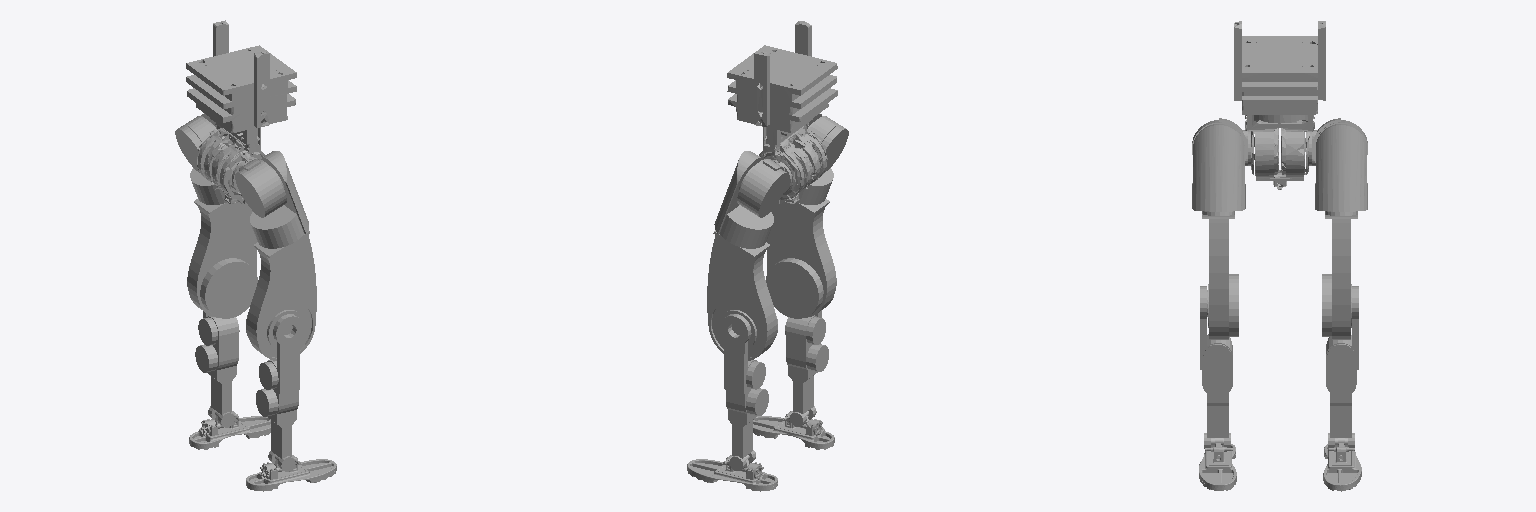
robot.urdf — R2:
<?xml version="1.0" encoding="utf-8"?>
<!-- 此模型用于仿真配重块版模型 -->
<robot name="R2">
  <mujoco>
    <compiler meshdir="meshes/" balanceinertia="true" discardvisual="false" />
  </mujoco>
  
  <!-- [CAUTION] uncomment when convert to mujoco -->
  <!-- <link name="world"></link>
  <joint name="floating_base_joint" type="floating">
    <parent link="world"/>
    <child link="base_link"/>
  </joint> -->

  <link name="base_link">
    <inertial>
      <origin xyz="0.00439618 5.853e-05 0.0065115" rpy="0 0 0" />
      <mass value="2.61" />
      <inertia ixx="0.00677361" ixy="2.89e-06" ixz="-0.00035304" iyy="0.00529171" iyz="-2.71e-06" izz="0.00502638" />
    </inertial>
    <visual>
      <origin xyz="0 0 0" rpy="0 0 0" />
      <geometry>
        <mesh filename="meshes/base_clump_weight_link.STL" />
      </geometry>
      <material name="">
        <color rgba="0.69804 0.69804 0.69804 1" />
      </material>
    </visual>
    <collision>
      <origin xyz="0 0 0" rpy="0 0 0" />
      <geometry>
        <mesh filename="meshes/base_clump_weight_link.STL" />
      </geometry>
    </collision>
  </link>
  <link name="clump_weight_link">
    <inertial>
      <origin xyz="-0.0006442 -7.046e-05 0.05178552" rpy="0 0 0" />
      <mass value="18.02929317" />
      <inertia ixx="0.05787748" ixy="-6.906e-05" ixz="-0.00072924" iyy="0.04960865" iyz="-1.088e-05" izz="0.06888179" />
    </inertial>
    <visual>
      <origin xyz="0 0 0" rpy="0 0 0" />
      <geometry>
        <mesh filename="meshes/clump_weight_link.STL" />
      </geometry>
      <material name="">
        <color rgba="0.69804 0.69804 0.69804 1" />
      </material>
    </visual>
    <collision>
      <origin xyz="0 0 0" rpy="0 0 0" />
      <geometry>
        <mesh filename="meshes/clump_weight_link.STL" />
      </geometry>
    </collision>
  </link>
  <joint name="clump_weight_joint" type="fixed">
    <origin xyz="0.0202500000012904 -0.00020855928995891 0.112124773455925" rpy="0 0 0" />
    <parent link="base_link" />
    <child link="clump_weight_link" />
  </joint>
  <link name="left_hip_pitch_link">
    <inertial>
      <origin xyz="-0.00028938 0.05520985 0.00013118" rpy="0 0 0" />
      <mass value="1.213" />
      <inertia ixx="0.00188482" ixy="1.784e-05" ixz="0.00022231" iyy="0.00118886" iyz="-1.011e-05" izz="0.00134031" />
    </inertial>
    <visual>
      <origin xyz="0 0 0" rpy="0 0 0" />
      <geometry>
        <mesh filename="meshes/left_hip_pitch_link.STL" />
      </geometry>
      <material name="">
        <color rgba="0.698039215686274 0.698039215686274 0.698039215686274 1" />
      </material>
    </visual>
    <collision>
      <origin xyz="0 0 0" rpy="0 0 0" />
      <geometry>
        <mesh filename="meshes/left_hip_pitch_link.STL" />
      </geometry>
    </collision>
  </link>
  <joint name="left_hip_pitch_joint" type="revolute">
    <origin xyz="0 0.0584500002241198 0" rpy="0 0 0" />
    <parent link="base_link" />
    <child link="left_hip_pitch_link" />
    <axis xyz="0 1 0" />
    <limit lower="-2.530727415" upper="2.879793266" effort="130" velocity="14.658" />
    <dynamics damping="0" friction="0" />
  </joint>
  <link name="left_hip_roll_link">
    <inertial>
      <origin xyz="-0.01609958 -1.412e-05 -0.07854252" rpy="0 0 0" />
      <mass value="1.41" />
      <inertia ixx="0.00343001" ixy="1.135e-05" ixz="-0.00085477" iyy="0.00366739" iyz="-3e-08" izz="0.00223593" />
    </inertial>
    <visual>
      <origin xyz="0 0 0" rpy="0 0 0" />
      <geometry>
        <mesh filename="meshes/left_hip_roll_link.STL" />
      </geometry>
      <material name="">
        <color rgba="0.698039215686274 0.698039215686274 0.698039215686274 1" />
      </material>
    </visual>
    <collision>
      <origin xyz="0 0 0" rpy="0 0 0" />
      <geometry>
        <mesh filename="meshes/left_hip_roll_link.STL" />
      </geometry>
    </collision>
  </link>
  <joint name="left_hip_roll_joint" type="revolute">
    <origin xyz="0.0249722852796248 0.0615000000000107 0.0090893131122475" rpy="0 -0.349065850398729 0" />
    <parent link="left_hip_pitch_link" />
    <child link="left_hip_roll_link" />
    <axis xyz="1 0 0" />
    <limit lower="-0.2618" upper="2.4435" effort="130" velocity="14.658" />
    <dynamics damping="0" friction="0" />
  </joint>
  <link name="left_hip_yaw_link">
    <inertial>
      <origin xyz="-0.04741913 -0.00321393 -0.1557307" rpy="0 0 0" />
      <mass value="2.338" />
      <inertia ixx="0.01056771" ixy="-0.00014798" ixz="-0.00336716" iyy="0.01472501" iyz="-0.00022926" izz="0.00514596" />
    </inertial>
    <visual>
      <origin xyz="0 0 0" rpy="0 0 0" />
      <geometry>
        <mesh filename="meshes/left_hip_yaw_link.STL" />
      </geometry>
      <material name="">
        <color rgba="0.698039215686274 0.698039215686274 0.698039215686274 1" />
      </material>
    </visual>
    <collision>
      <origin xyz="0 0 0" rpy="0 0 0" />
      <geometry>
        <mesh filename="meshes/left_hip_yaw_link.STL" />
      </geometry>
    </collision>
  </link>
  <joint name="left_hip_yaw_joint" type="revolute">
    <origin xyz="-0.0267499999999739 0 -0.1225" rpy="0 0 0" />
    <parent link="left_hip_roll_link" />
    <child link="left_hip_yaw_link" />
    <axis xyz="0 0 1" />
    <limit lower="-2.7576" upper="2.7576" effort="90" velocity="16.438" />
    <dynamics damping="0" friction="0" />
  </joint>
  <link name="left_knee_link">
    <inertial>
      <origin xyz="-0.00155103 -0.01699974 -0.13563883" rpy="0 0 0" />
      <mass value="1.77" />
      <inertia ixx="0.0087247" ixy="-1.23e-05" ixz="-7.771e-05" iyy="0.00863491" iyz="-0.00073353" izz="0.0010461" />
    </inertial>
    <visual>
      <origin xyz="0 0 0" rpy="0 0 0" />
      <geometry>
        <mesh filename="meshes/left_knee_link.STL" />
      </geometry>
      <material name="">
        <color rgba="0.698039215686274 0.698039215686274 0.698039215686274 1" />
      </material>
    </visual>
    <collision>
      <origin xyz="0 0 0" rpy="0 0 0" />
      <geometry>
        <mesh filename="meshes/left_knee_link.STL" />
      </geometry>
    </collision>
  </link>
  <joint name="left_knee_joint" type="revolute">
    <origin xyz="-0.066694 0.02125 -0.18724" rpy="0 0.34907 0" />
    <parent link="left_hip_yaw_link" />
    <child link="left_knee_link" />
    <axis xyz="0 1 0" />
    <limit lower="-0.401425728" upper="2.42600766" effort="150" velocity="14.658" />
    <dynamics damping="0" friction="0" />
  </joint>
  <link name="left_ankle_pitch_link">
    <inertial>
      <origin xyz="-0.00174962 0.0 -0.0115014" rpy="0 0 0" />
      <mass value="0.09698402" />
      <inertia ixx="1.377e-05" ixy="-0.0" ixz="-1.35e-06" iyy="2.495e-05" iyz="-0.0" izz="1.58e-05" />
    </inertial>
    <visual>
      <origin xyz="0 0 0" rpy="0 0 0" />
      <geometry>
        <mesh filename="meshes/left_ankle_pitch_link.STL" />
      </geometry>
      <material name="">
        <color rgba="0.752941176470588 0.752941176470588 0.752941176470588 1" />
      </material>
    </visual>
    <collision>
      <origin xyz="0 0 0" rpy="0 0 0" />
      <geometry>
        <mesh filename="meshes/left_ankle_pitch_link.STL" />
      </geometry>
    </collision>
  </link>
  <joint name="left_ankle_pitch_joint" type="revolute">
    <origin xyz="0.00014288 -0.02125 -0.298" rpy="0 -0.00047947 0" />
    <parent link="left_knee_link" />
    <child link="left_ankle_pitch_link" />
    <axis xyz="0 1 0" />
    <limit lower="-0.69813" upper="0.5236" effort="75" velocity="12.25" />
    <dynamics damping="0" friction="0" />
  </joint>
  <link name="left_ankle_roll_link">
    <inertial>
      <origin xyz="0.00993838 -0.00011106 -0.01078381" rpy="0 0 0" />
      <mass value="0.49260375" />
      <inertia ixx="0.00017395" ixy="-1.455e-05" ixz="5.982e-05" iyy="0.0009755" iyz="-1.04e-06" izz="0.00101534" />
    </inertial>
    <visual>
      <origin xyz="0 0 0" rpy="0 0 0" />
      <geometry>
        <mesh filename="meshes/left_ankle_roll_arch_link.STL" />
      </geometry>
      <material name="">
        <color rgba="0.698039215686274 0.698039215686274 0.698039215686274 1" />
      </material>
    </visual>
    <!-- <collision>
      <origin xyz="0 0 0" rpy="0 0 0" />
      <geometry>
        <mesh filename="meshes/left_ankle_roll_arch_link.STL" />
      </geometry>
    </collision> -->

    <collision>
      <origin xyz="-0.05 -0.028 -0.025" rpy="0 0 0"/>
      <geometry>
        <sphere radius="0.005"/>
      </geometry>
    </collision>

    <collision>
      <origin xyz="-0.05 0.0185 -0.025" rpy="0 0 0"/>
      <geometry>
        <sphere radius="0.005"/>
      </geometry>
    </collision>

    <collision>
      <origin xyz="0.10 -0.026 -0.025" rpy="0 0 0"/>
      <geometry>
        <sphere radius="0.005"/>
      </geometry>
    </collision>

    <collision>
      <origin xyz="0.10 0.024 -0.025" rpy="0 0 0"/>
      <geometry>
        <sphere radius="0.005"/>
      </geometry>
    </collision>
  </link>
  <joint name="left_ankle_roll_joint" type="revolute">
    <origin xyz="0 0 -0.02" rpy="0 0 0" />
    <parent link="left_ankle_pitch_link" />
    <child link="left_ankle_roll_link" />
    <axis xyz="1 0 0" />
    <limit lower="-0.2618" upper="0.2618" effort="75" velocity="12.25" />
    <dynamics damping="0" friction="0" />
  </joint>
  <link name="right_hip_pitch_link">
    <inertial>
      <origin xyz="-0.00029784 -0.05483617 0.0002104" rpy="0 0 0" />
      <mass value="1.213" />
      <inertia ixx="0.00188697" ixy="-1.722e-05" ixz="0.00022111" iyy="0.00119139" iyz="1.074e-05" izz="0.00133822" />
    </inertial>
    <visual>
      <origin xyz="0 0 0" rpy="0 0 0" />
      <geometry>
        <mesh filename="meshes/right_hip_pitch_link.STL" />
      </geometry>
      <material name="">
        <color rgba="0.698039215686274 0.698039215686274 0.698039215686274 1" />
      </material>
    </visual>
    <collision>
      <origin xyz="0 0 0" rpy="0 0 0" />
      <geometry>
        <mesh filename="meshes/right_hip_pitch_link.STL" />
      </geometry>
    </collision>
  </link>
  <joint name="right_hip_pitch_joint" type="revolute">
    <origin xyz="0 -0.05845 0" rpy="0 0 0" />
    <parent link="base_link" />
    <child link="right_hip_pitch_link" />
    <axis xyz="0 1 0" />
    <limit lower="-2.530727415" upper="2.879793266" effort="130" velocity="14.658" />
    <dynamics damping="0" friction="0" />
  </joint>
  <link name="right_hip_roll_link">
    <inertial>
      <origin xyz="-0.01609958 -1.412e-05 -0.07854252" rpy="0 0 0" />
      <mass value="1.41" />
      <inertia ixx="0.00343001" ixy="1.135e-05" ixz="-0.00085477" iyy="0.00366739" iyz="-3e-08" izz="0.00223593" />
    </inertial>
    <visual>
      <origin xyz="0 0 0" rpy="0 0 0" />
      <geometry>
        <mesh filename="meshes/right_hip_roll_link.STL" />
      </geometry>
      <material name="">
        <color rgba="0.698039215686274 0.698039215686274 0.698039215686274 1" />
      </material>
    </visual>
    <collision>
      <origin xyz="0 0 0" rpy="0 0 0" />
      <geometry>
        <mesh filename="meshes/right_hip_roll_link.STL" />
      </geometry>
    </collision>
  </link>
  <joint name="right_hip_roll_joint" type="revolute">
    <origin xyz="0.0249723782195777 -0.0610999992992917 0.00908905776189617" rpy="0 -0.34906585039873 0" />
    <parent link="right_hip_pitch_link" />
    <child link="right_hip_roll_link" />
    <axis xyz="1 0 0" />
    <limit lower="-2.4435" upper="0.2618" effort="130" velocity="14.658" />
    <dynamics damping="0" friction="0" />
  </joint>
  <link name="right_hip_yaw_link">
    <inertial>
      <origin xyz="-0.04743498 0.00321447 -0.15572445" rpy="0 0 0" />
      <mass value="2.338" />
      <inertia ixx="0.01056519" ixy="0.00014855" ixz="-0.00337014" iyy="0.01472568" iyz="0.00022888" izz="0.00514912" />
    </inertial>
    <visual>
      <origin xyz="0 0 0" rpy="0 0 0" />
      <geometry>
        <mesh filename="meshes/right_hip_yaw_link.STL" />
      </geometry>
      <material name="">
        <color rgba="0.698039215686274 0.698039215686274 0.698039215686274 1" />
      </material>
    </visual>
    <collision>
      <origin xyz="0 0 0" rpy="0 0 0" />
      <geometry>
        <mesh filename="meshes/right_hip_yaw_link.STL" />
      </geometry>
    </collision>
  </link>
  <joint name="right_hip_yaw_joint" type="revolute">
    <origin xyz="-0.02675 0 -0.1225" rpy="0 0 0" />
    <parent link="right_hip_roll_link" />
    <child link="right_hip_yaw_link" />
    <axis xyz="0 0 1" />
    <limit lower="-2.7576" upper="2.7576" effort="90" velocity="16.438" />
    <dynamics damping="0" friction="0" />
  </joint>
  <link name="right_knee_link">
    <inertial>
      <origin xyz="-0.00155151 0.01700124 -0.13563996" rpy="0 0 0" />
      <mass value="1.771" />
      <inertia ixx="0.00872903" ixy="1.207e-05" ixz="-7.776e-05" iyy="0.00863907" iyz="0.00073381" izz="0.00104678" />
    </inertial>
    <visual>
      <origin xyz="0 0 0" rpy="0 0 0" />
      <geometry>
        <mesh filename="meshes/right_knee_link.STL" />
      </geometry>
      <material name="">
        <color rgba="0.698039215686274 0.698039215686274 0.698039215686274 1" />
      </material>
    </visual>
    <collision>
      <origin xyz="0 0 0" rpy="0 0 0" />
      <geometry>
        <mesh filename="meshes/right_knee_link.STL" />
      </geometry>
    </collision>
  </link>
  <joint name="right_knee_joint" type="revolute">
    <origin xyz="-0.066694 -0.02125 -0.18724" rpy="0 0.34907 0" />
    <parent link="right_hip_yaw_link" />
    <child link="right_knee_link" />
    <axis xyz="0 1 0" />
    <limit lower="-0.401425728" upper="2.42600766" effort="150" velocity="14.658" />
    <dynamics damping="0" friction="0" />
  </joint>
  <link name="right_ankle_pitch_link">
    <inertial>
      <origin xyz="-0.00174962 0.0 -0.0115014" rpy="0 0 0" />
      <mass value="0.09698402" />
      <inertia ixx="1.377e-05" ixy="-0.0" ixz="-1.35e-06" iyy="2.495e-05" iyz="-0.0" izz="1.58e-05" />
    </inertial>
    <visual>
      <origin xyz="0 0 0" rpy="0 0 0" />
      <geometry>
        <mesh filename="meshes/right_ankle_pitch_link.STL" />
      </geometry>
      <material name="">
        <color rgba="0.752941176470588 0.752941176470588 0.752941176470588 1" />
      </material>
    </visual>
    <collision>
      <origin xyz="0 0 0" rpy="0 0 0" />
      <geometry>
        <mesh filename="meshes/right_ankle_pitch_link.STL" />
      </geometry>
    </collision>
  </link>
  <joint name="right_ankle_pitch_joint" type="revolute">
    <origin xyz="0.000142882489459831 0.0212500000000541 -0.297999965745961" rpy="0 -0.000479471459510909 0" />
    <parent link="right_knee_link" />
    <child link="right_ankle_pitch_link" />
    <axis xyz="0 1 0" />
    <limit lower="-0.69813" upper="0.5236" effort="75" velocity="12.25" />
    <dynamics damping="0" friction="0" />
  </joint>
  <link name="right_ankle_roll_link">
    <inertial>
      <origin xyz="0.00994096 0.00011084 -0.01078409" rpy="0 0 0" />
      <mass value="0.49261348" />
      <inertia ixx="0.00017395" ixy="1.454e-05" ixz="5.984e-05" iyy="0.00097564" iyz="1.04e-06" izz="0.00101545" />
    </inertial>
    <visual>
      <origin xyz="0 0 0" rpy="0 0 0" />
      <geometry>
        <mesh filename="meshes/right_ankle_roll_arch_link.STL" />
      </geometry>
      <material name="">
        <color rgba="0.698039215686274 0.698039215686274 0.698039215686274 0.3" />
      </material>
    </visual>
    <!-- <collision>
      <origin xyz="0 0 0" rpy="0 0 0" />
      <geometry>
        <mesh filename="meshes/right_ankle_roll_arch_link.STL" />
      </geometry>
    </collision> -->

    <collision>
      <origin xyz="-0.05 0.028 -0.025" rpy="0 0 0"/>
      <geometry>
        <sphere radius="0.005"/>
      </geometry>
    </collision>

    <collision>
      <origin xyz="-0.05 -0.0185 -0.025" rpy="0 0 0"/>
      <geometry>
        <sphere radius="0.005"/>
      </geometry>
    </collision>

    <collision>
      <origin xyz="0.10 0.026 -0.025" rpy="0 0 0"/>
      <geometry>
        <sphere radius="0.005"/>
      </geometry>
    </collision>

    <collision>
      <origin xyz="0.10 -0.024 -0.025" rpy="0 0 0"/>
      <geometry>
        <sphere radius="0.005"/>
      </geometry>
    </collision>

  </link>
  <joint name="right_ankle_roll_joint" type="revolute">
    <origin xyz="0 0 -0.02" rpy="0 0 0" />
    <parent link="right_ankle_pitch_link" />
    <child link="right_ankle_roll_link" />
    <axis xyz="1 0 0" />
    <limit lower="-0.2618" upper="0.2618" effort="75" velocity="12.25" />
    <dynamics damping="0" friction="0" />
  </joint>

  <!-- imu -->
  <link name="imu_in_base"></link>
  <joint name="imu_in_base_joint" type="fixed">
    <origin xyz="0.0059965 -0.003397 -0.070175" rpy="0 0 0"/>
    <parent link="base_link"/>
    <child link="imu_in_base"/>
  </joint>

</robot>

--- What the picture shows (computed from the rendered views, not written in the file) ---
Views: 3 orthographic renders of the robot side by side, from view 1: azimuth 30°, elevation 25°; view 2: azimuth 150°, elevation 25°; view 3: azimuth 270°, elevation 25°.
Model R2 with 15 links and 14 joints (12 revolute, 2 fixed), rooted at base_link, posed every joint at zero.
Visible links, largest first — view 1: clump_weight_link, left_hip_yaw_link, right_hip_yaw_link, right_knee_link, left_knee_link, base_link, right_hip_roll_link, right_hip_pitch_link, right_ankle_roll_link, left_ankle_roll_link, left_hip_pitch_link, left_hip_roll_link; view 2: clump_weight_link, right_hip_yaw_link, left_hip_yaw_link, left_knee_link, right_knee_link, base_link, left_hip_roll_link, left_hip_pitch_link, left_ankle_roll_link, right_ankle_roll_link, right_hip_pitch_link, right_hip_roll_link; view 3: clump_weight_link, right_hip_roll_link, left_hip_roll_link, base_link, right_hip_yaw_link, right_knee_link, left_knee_link, left_hip_yaw_link, left_ankle_roll_link, right_ankle_roll_link.
Link boxes in pixels (box(x1,y1,x2,y2)): clump_weight_link: box(186, 20, 296, 144); left_hip_yaw_link: box(187, 199, 257, 318); right_hip_yaw_link: box(246, 230, 316, 360); right_knee_link: box(256, 314, 303, 471); left_knee_link: box(195, 311, 239, 427); base_link: box(197, 122, 265, 203); right_hip_roll_link: box(250, 151, 308, 248); right_hip_pitch_link: box(232, 159, 286, 217); right_ankle_roll_link: box(246, 455, 336, 491); left_ankle_roll_link: box(189, 411, 270, 449); left_hip_pitch_link: box(175, 116, 214, 172); left_hip_roll_link: box(190, 113, 226, 204); clump_weight_link: box(727, 21, 837, 144); right_hip_yaw_link: box(766, 199, 836, 318); left_hip_yaw_link: box(707, 230, 777, 360); left_knee_link: box(721, 314, 768, 470); right_knee_link: box(785, 310, 828, 426); base_link: box(759, 123, 827, 203); left_hip_roll_link: box(714, 151, 773, 248); left_hip_pitch_link: box(737, 159, 791, 217); left_ankle_roll_link: box(687, 455, 777, 491); right_ankle_roll_link: box(753, 411, 834, 449); right_hip_pitch_link: box(807, 116, 848, 172); right_hip_roll_link: box(797, 113, 833, 204); clump_weight_link: box(1234, 21, 1325, 114); right_hip_roll_link: box(1192, 124, 1245, 211); left_hip_roll_link: box(1315, 124, 1367, 211); base_link: box(1245, 115, 1314, 189); right_hip_yaw_link: box(1202, 211, 1238, 339); right_knee_link: box(1200, 286, 1232, 448); left_knee_link: box(1326, 286, 1358, 447); left_hip_yaw_link: box(1322, 211, 1357, 339); left_ankle_roll_link: box(1323, 444, 1361, 491); right_ankle_roll_link: box(1199, 444, 1236, 490).
Size in the robot's own frame: 0.2334 by 0.3449 by 0.9406 metres.
14 mesh visuals loaded from 14 distinct referenced files (14 binary STL).